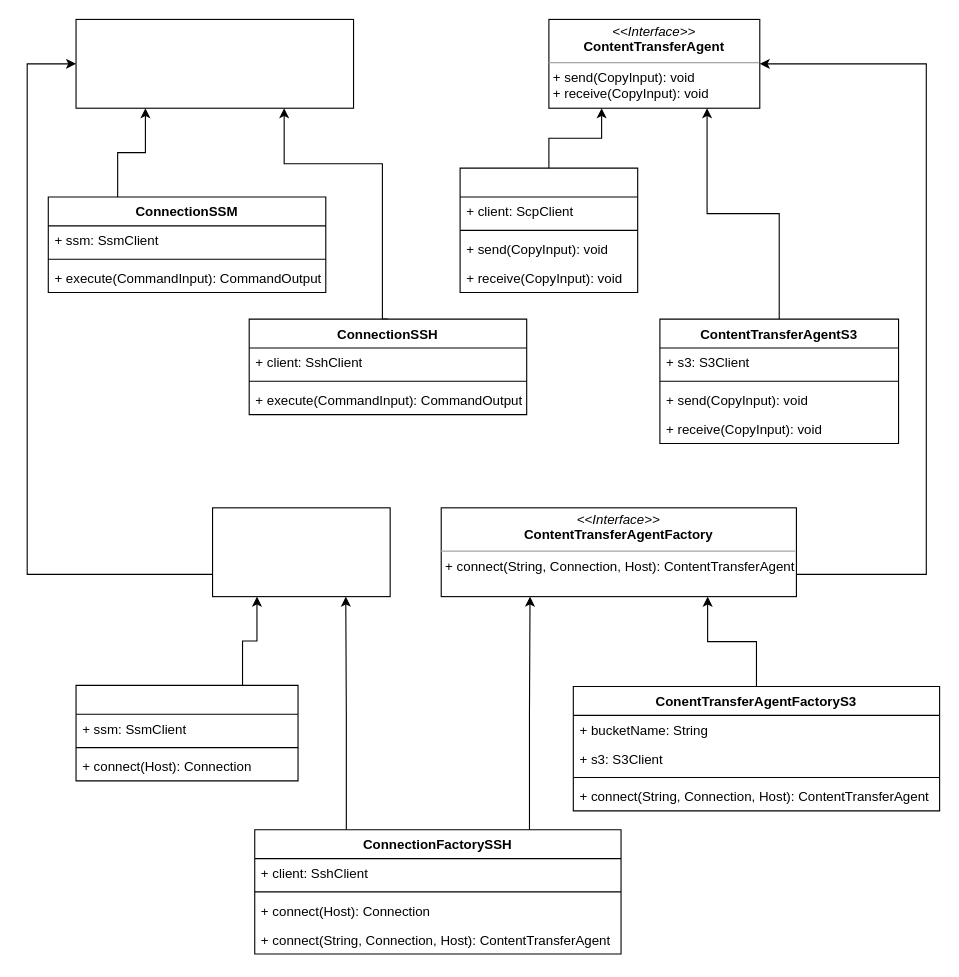
Image size: 959x977. Some labels were removed from this diagram. The box of each missing label's shape, as (x1, y1, x2, y2) in pixels:
<<Interface>> Connection + execute(CommandInput): CommandOutput: (75, 18, 354, 108)
<<Interface>> ConnectionFactory + connect(Host): Connection: (211, 507, 390, 597)
ConnectionFactorySSM: (75, 684, 298, 781)
ConnectionSCP: (459, 167, 638, 292)
